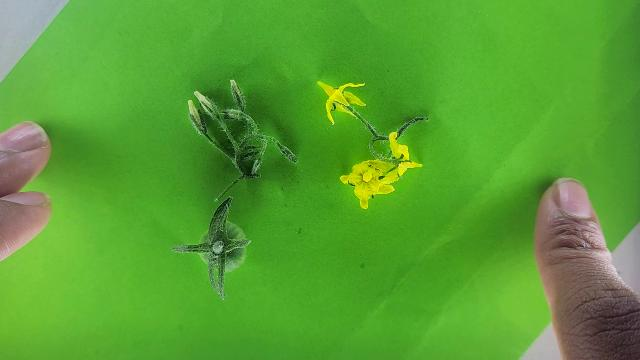Anthesis: (339, 152, 422, 210), (317, 80, 366, 126), (388, 131, 423, 172)
Flower Bud: (188, 101, 203, 127), (230, 79, 241, 98), (202, 96, 214, 109), (188, 100, 195, 113)
Fruit Maturation: (199, 221, 248, 272)
